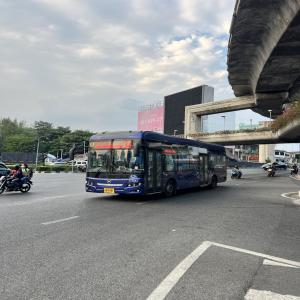Bus Line Number: (122, 140, 133, 148)
Bus Side Number: (128, 178, 139, 183)
Destination Sign: (94, 141, 122, 149)
TSB-Bus: (85, 132, 226, 198)
